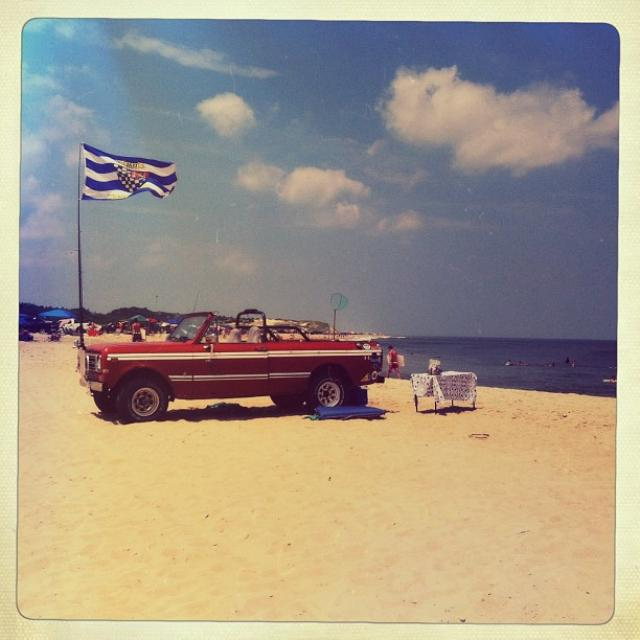Vehicle: (77, 309, 382, 424), (75, 309, 379, 418), (62, 318, 94, 336)
